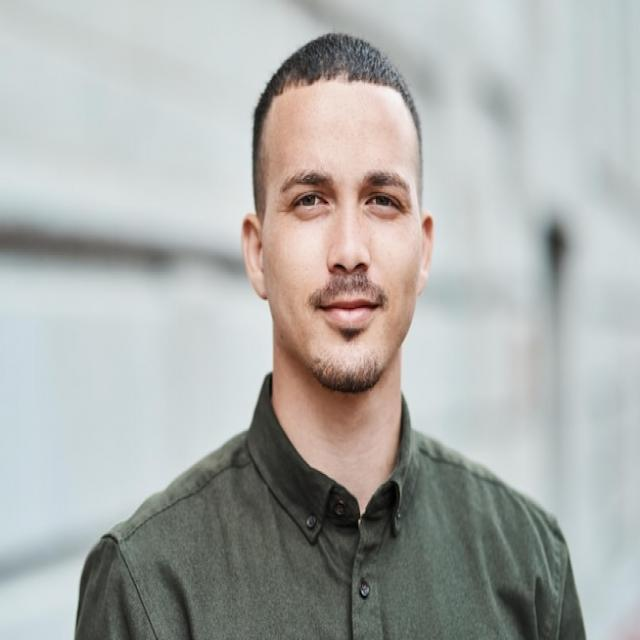nothing: (250, 27, 444, 243)
